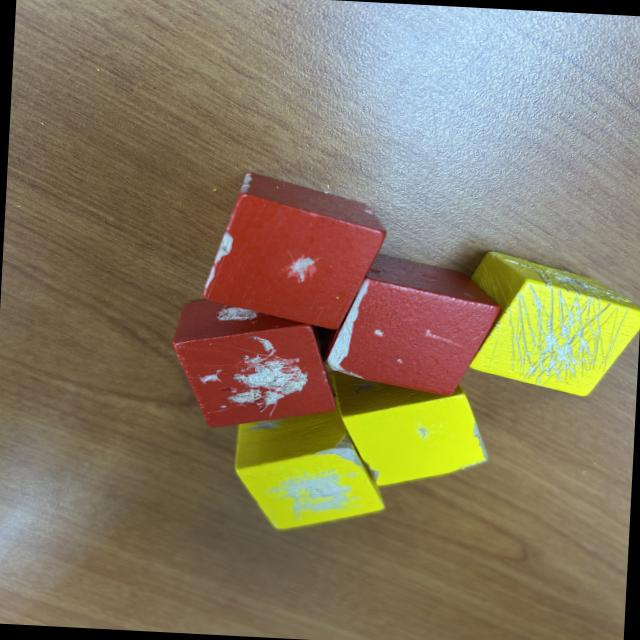broken: (198, 170, 390, 333), (322, 250, 504, 400), (461, 250, 640, 400), (166, 298, 342, 436), (230, 389, 393, 538), (322, 369, 494, 494)
